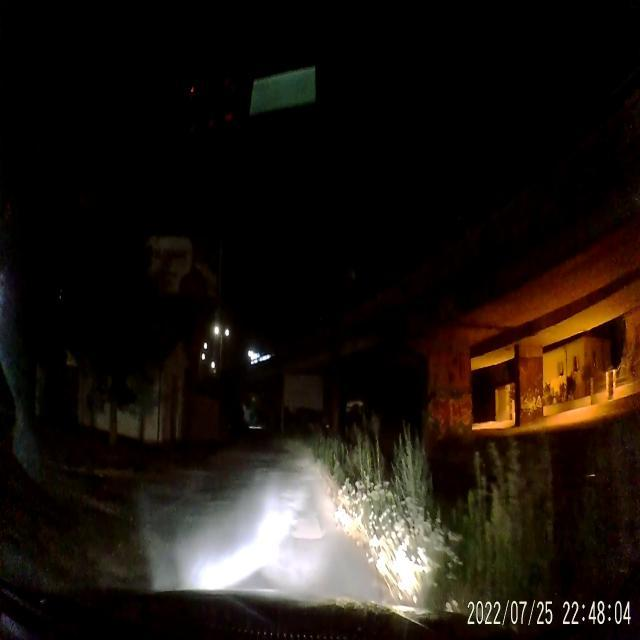Pothole: (290, 512, 324, 542)
